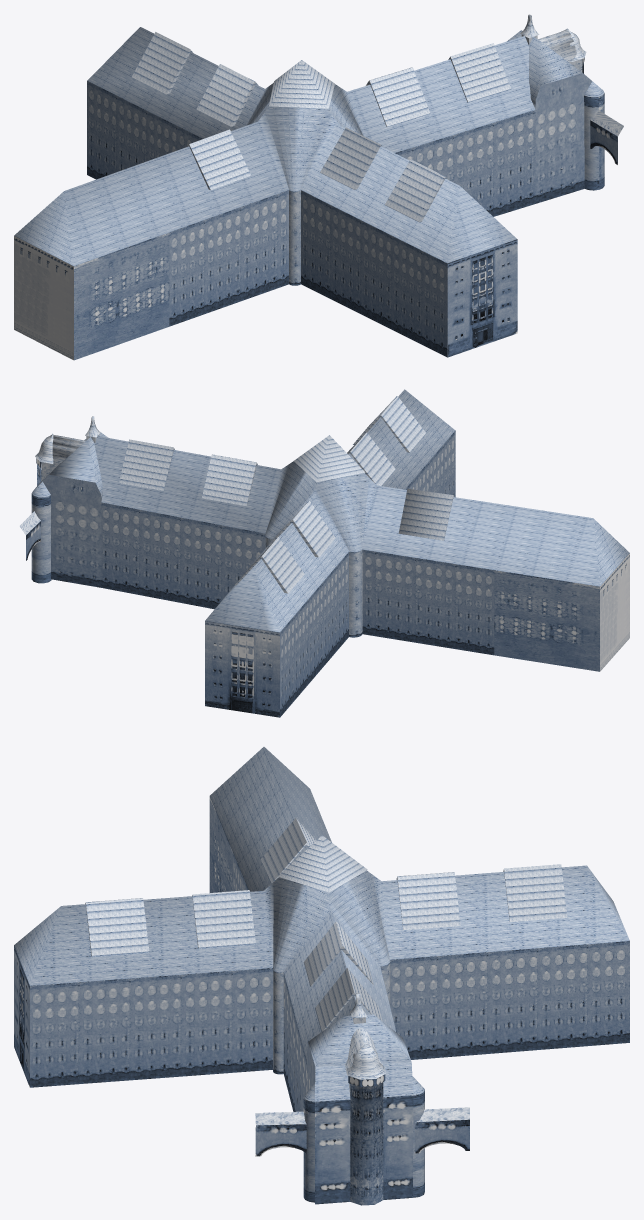
The model's file is 1Huelsse-Bau.gltf.
3 views of the same model, one above another, from view 1: azimuth 30°, elevation 25°; view 2: azimuth 150°, elevation 25°; view 3: azimuth 270°, elevation 25° (orthographic). The views are drawn at different scales.
Parts seen in each view (by area): view 1: Dach.1; view 2: Dach.1; view 3: Dach.1.
Part boxes in pixels (x1,y1,x2,y2): Dach.1: (14, 14, 623, 360); Dach.1: (19, 389, 629, 717); Dach.1: (14, 747, 629, 1205).
Bounding box in the file's own units: 113 × 35.39 × 93.27.
15 materials, 15 textured.
